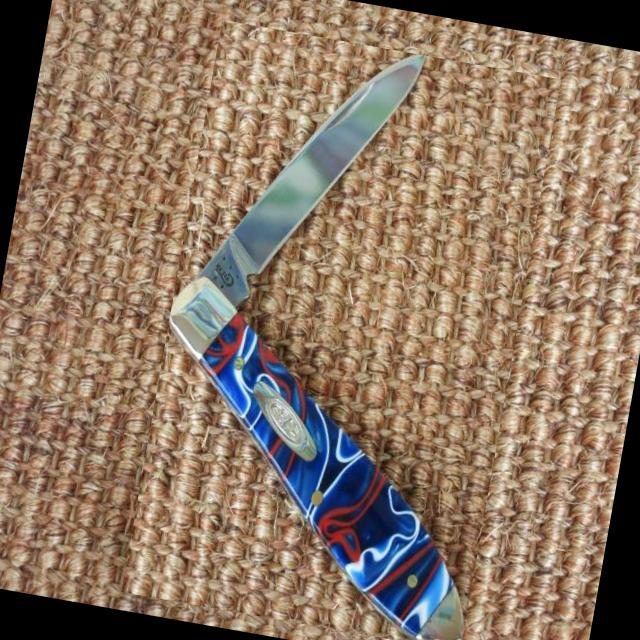Knife: (169, 54, 464, 640)
